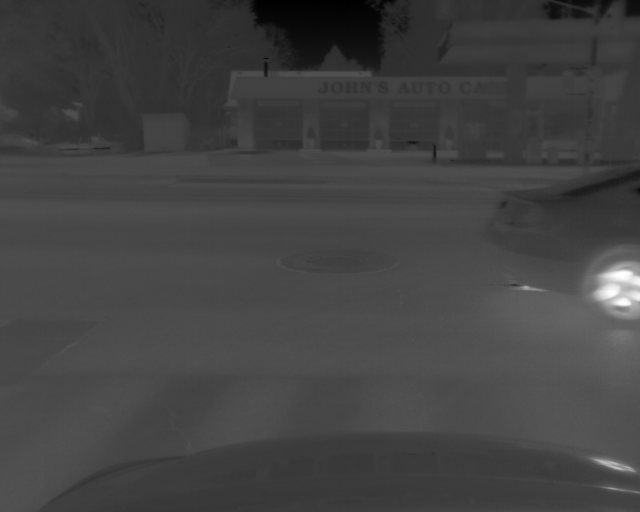car: (482, 156, 640, 326)
